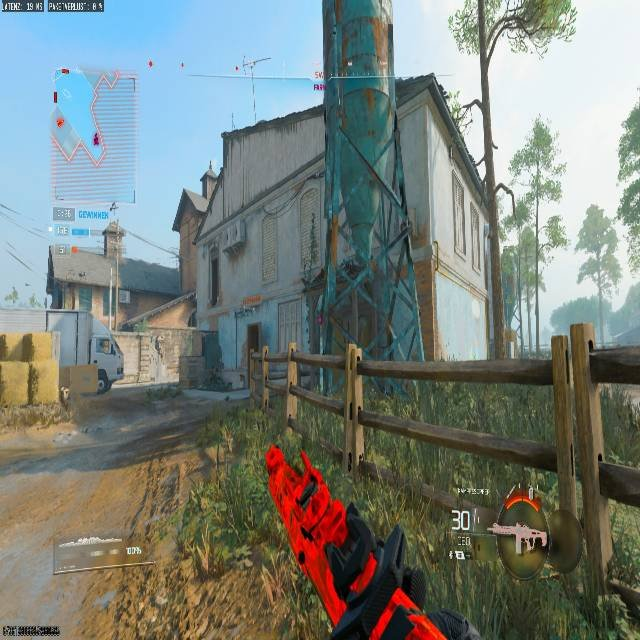player: (94, 363, 116, 394)
